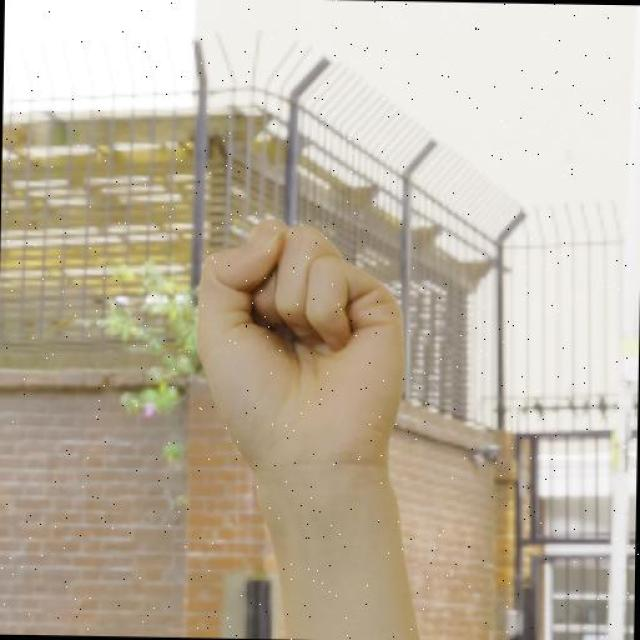S: (191, 215, 418, 466)
